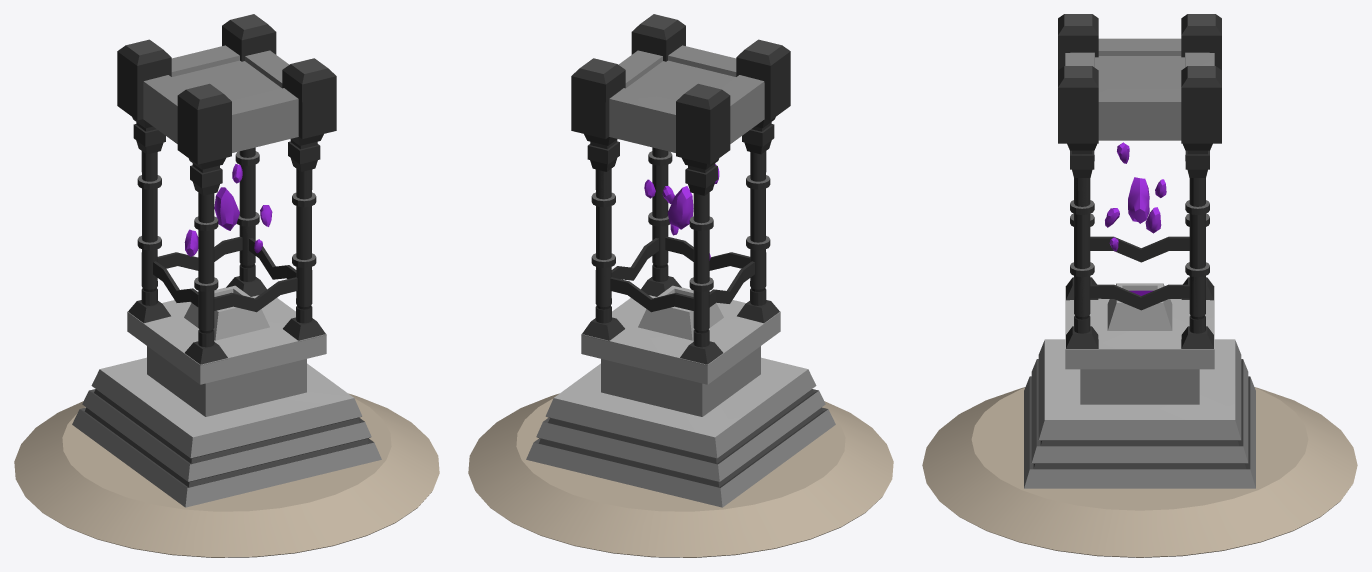
File: Poison Tower Lv3.fbx
The picture shows the model from 3 angles, left to right: view 1: azimuth 30°, elevation 25°; view 2: azimuth 150°, elevation 25°; view 3: azimuth 270°, elevation 25°; orthographic projection. The views are drawn at different scales.
Parts seen in each view (by area): view 1: Poison Tower Lv3, Crystal Main Lv3; view 2: Poison Tower Lv3, Crystal Main Lv3; view 3: Poison Tower Lv3, Crystal Main Lv3.
Part boxes in pixels (x1=…): Poison Tower Lv3: x1=14, y1=14, x2=439, y2=557; Crystal Main Lv3: x1=214, y1=187, x2=239, y2=230; Poison Tower Lv3: x1=468, y1=14, x2=893, y2=557; Crystal Main Lv3: x1=667, y1=186, x2=693, y2=229; Poison Tower Lv3: x1=922, y1=14, x2=1357, y2=557; Crystal Main Lv3: x1=1128, y1=177, x2=1149, y2=223.
Size of the model in its own units: 390 by 415 by 390.
